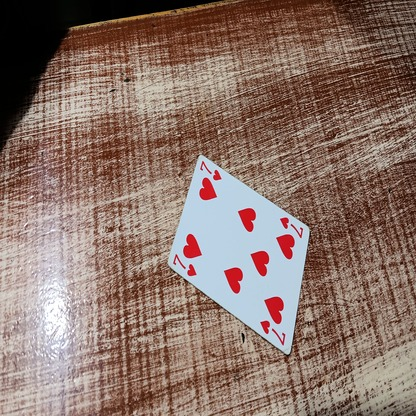7h: (260, 317, 287, 347), (172, 250, 197, 276), (197, 158, 222, 182), (281, 216, 304, 238)
